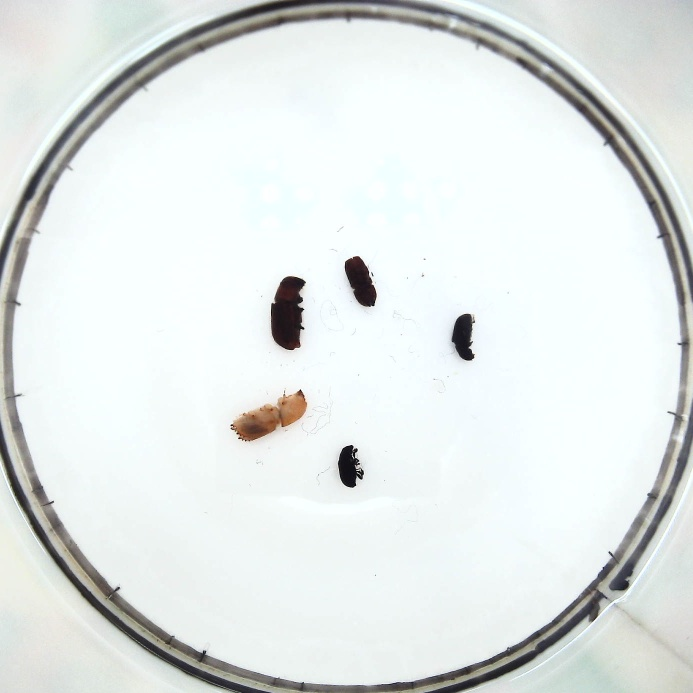armandi: (452, 312, 478, 364)
boerner: (229, 388, 308, 442)
coleoptera: (337, 445, 365, 489)
leconte: (269, 271, 305, 351)
linnaeus: (343, 256, 378, 308)
